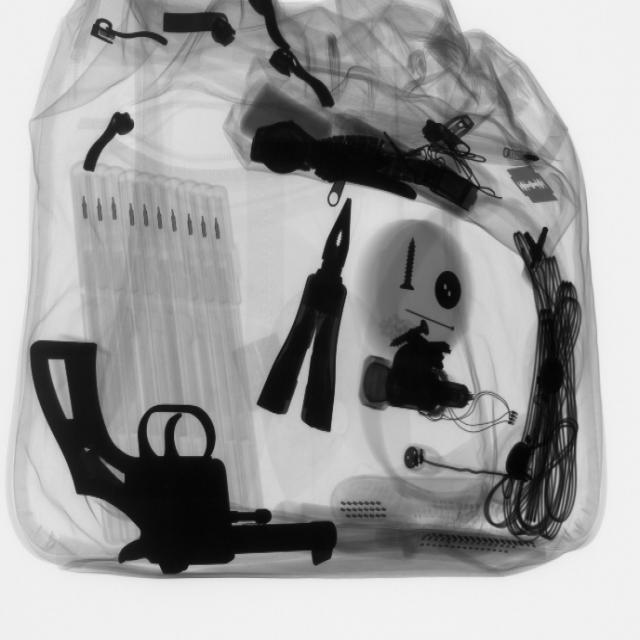BLADE: (508, 163, 560, 210)
GUN: (31, 337, 343, 571)
SCREW: (386, 233, 432, 301)
